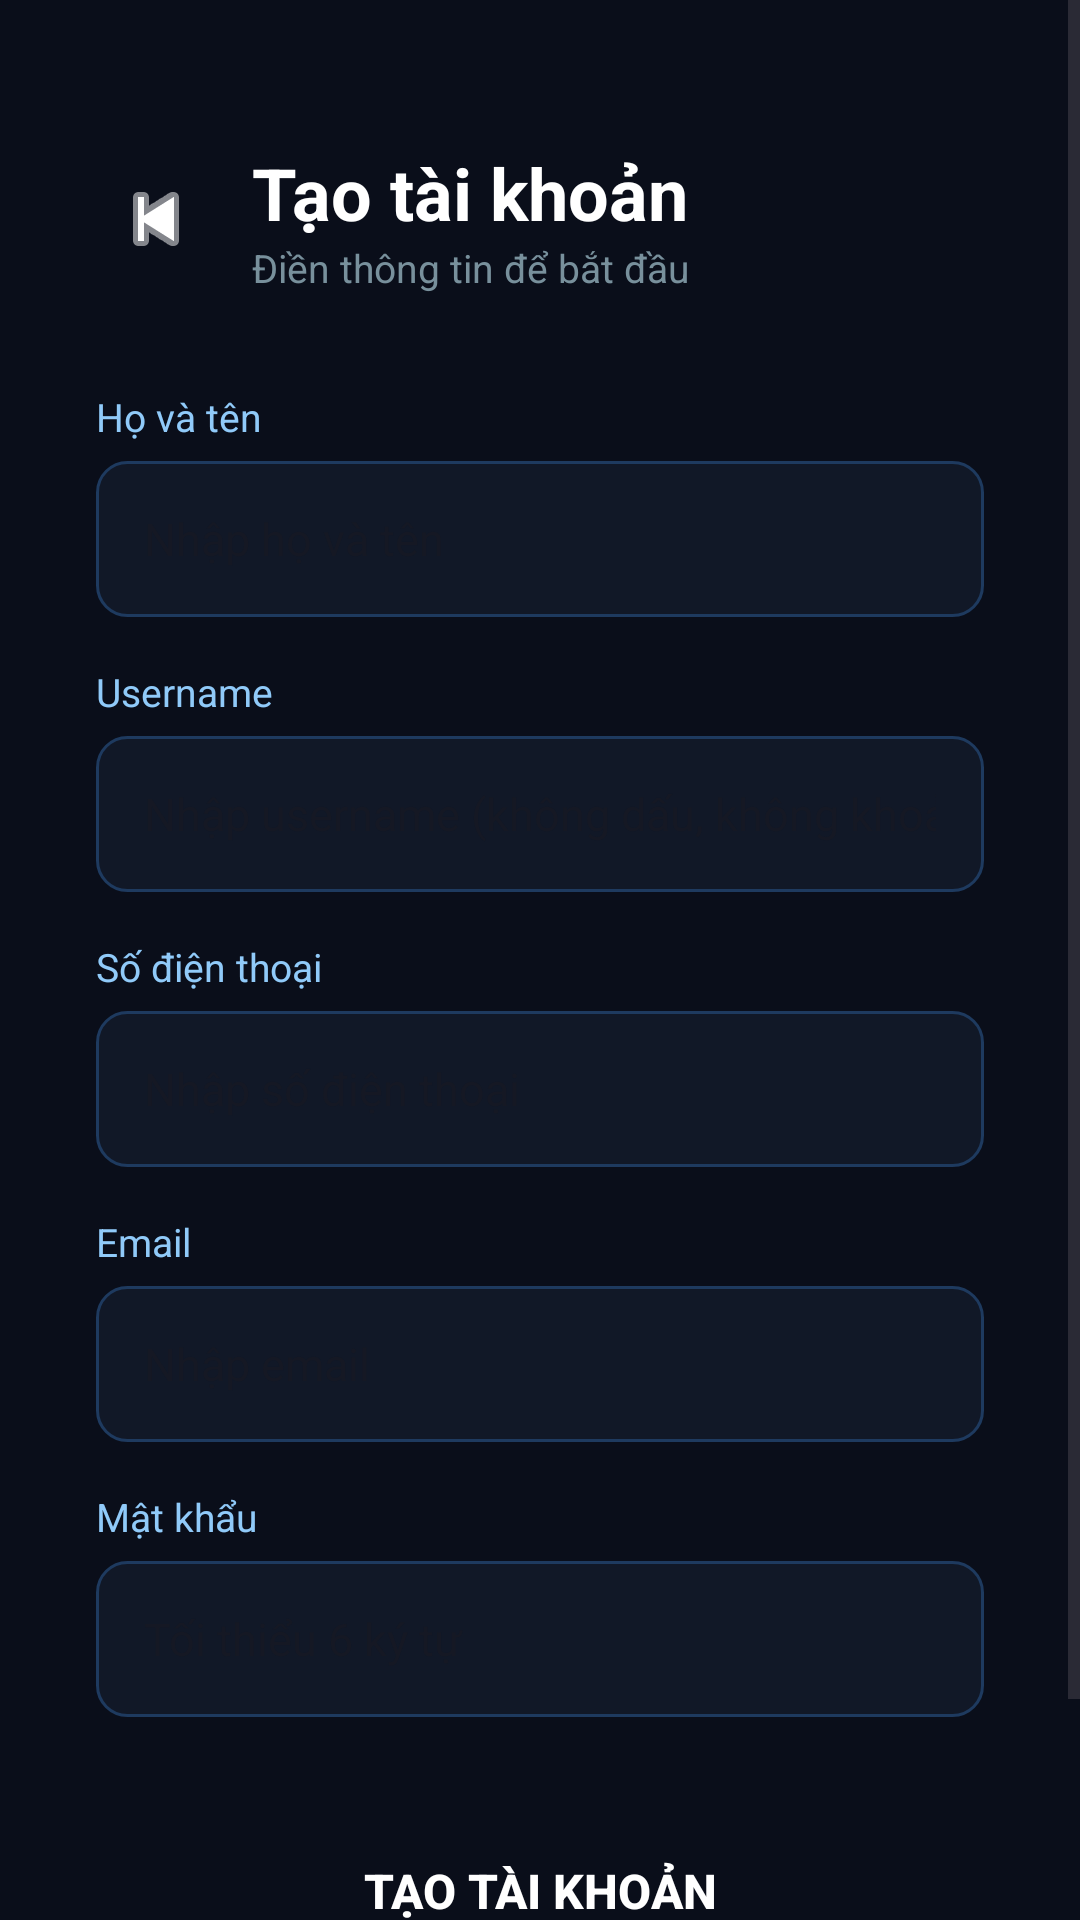

Icons on this 1080×1920 Android screen, each with the point to tap as [x,y]:
previous: [156,219]
